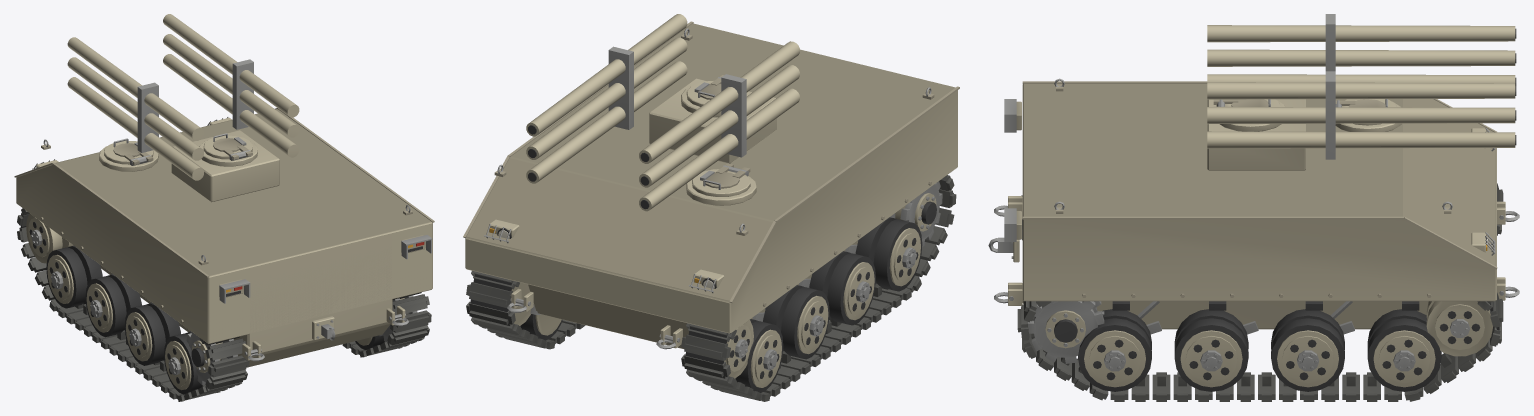
File: usa_td_ontos.glb
The picture shows the model from 3 angles, left to right: view 1: azimuth 30°, elevation 25°; view 2: azimuth 150°, elevation 25°; view 3: azimuth 270°, elevation 25°; orthographic projection. The views are drawn at different scales.
Parts seen in each view (by area): view 1: body, barrel, turret; view 2: body, barrel, turret; view 3: body, barrel, turret.
Part boxes in pixels (x1,y1,x2,y2): body: (14, 108, 434, 401); barrel: (67, 14, 299, 180); turret: (171, 130, 279, 202); body: (463, 21, 959, 401); barrel: (526, 14, 799, 211); turret: (649, 75, 776, 163); body: (988, 78, 1519, 401); barrel: (1207, 14, 1516, 159); turret: (1207, 99, 1305, 170).
Bounding box in the file's own units: 2.64 × 2.58 × 4.31.
